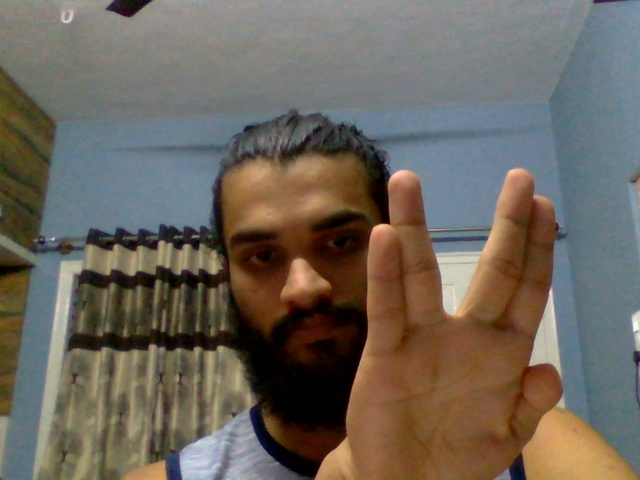LiveLong: (343, 167, 563, 480)
